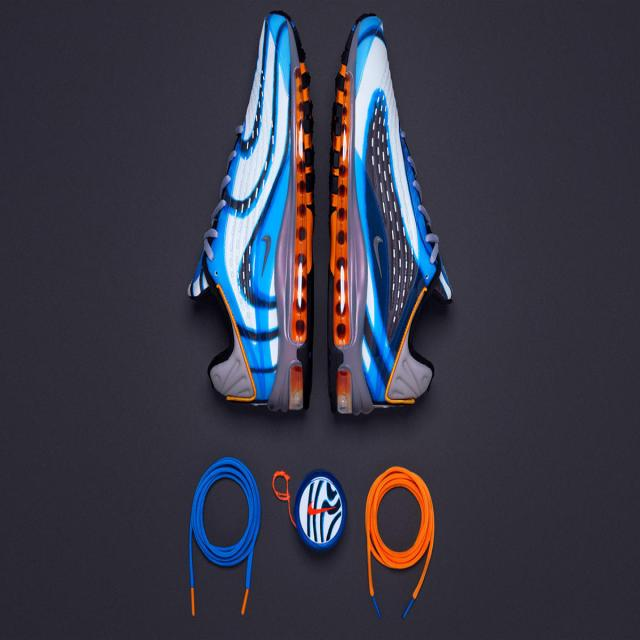shoe: (187, 8, 317, 418), (327, 9, 454, 418)
